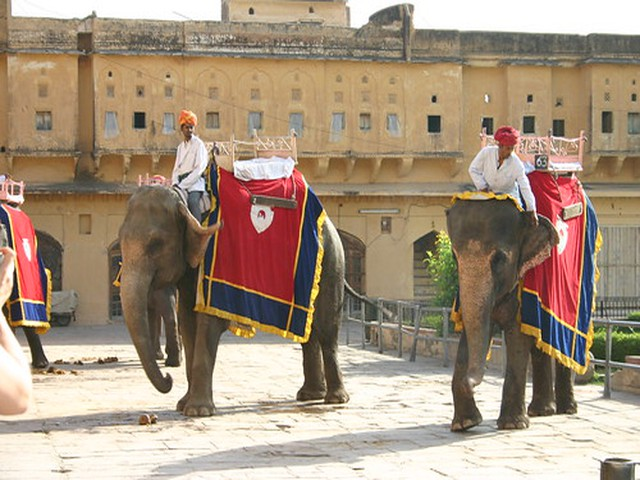Elephant: (92, 181, 353, 415), (446, 191, 612, 429)
Person: (464, 124, 537, 205), (170, 105, 217, 189)
